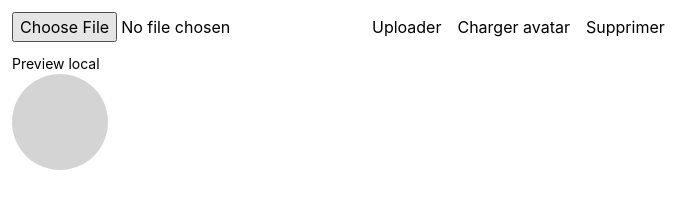
it: ProfileAvatar › blocks oversize file >2MB
Earlier steps of the test are not shown.
Click the button "Uploader": [407, 27] box [372, 15, 442, 39]
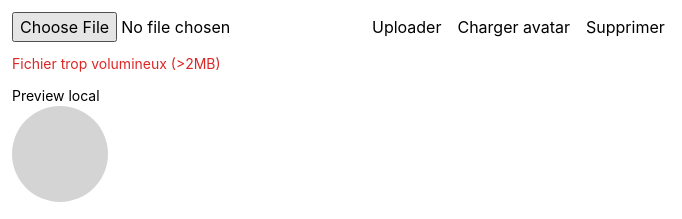
Check: the text "Fichier trop volumineux (>2MB)" is shown, box [12, 55, 221, 72]
